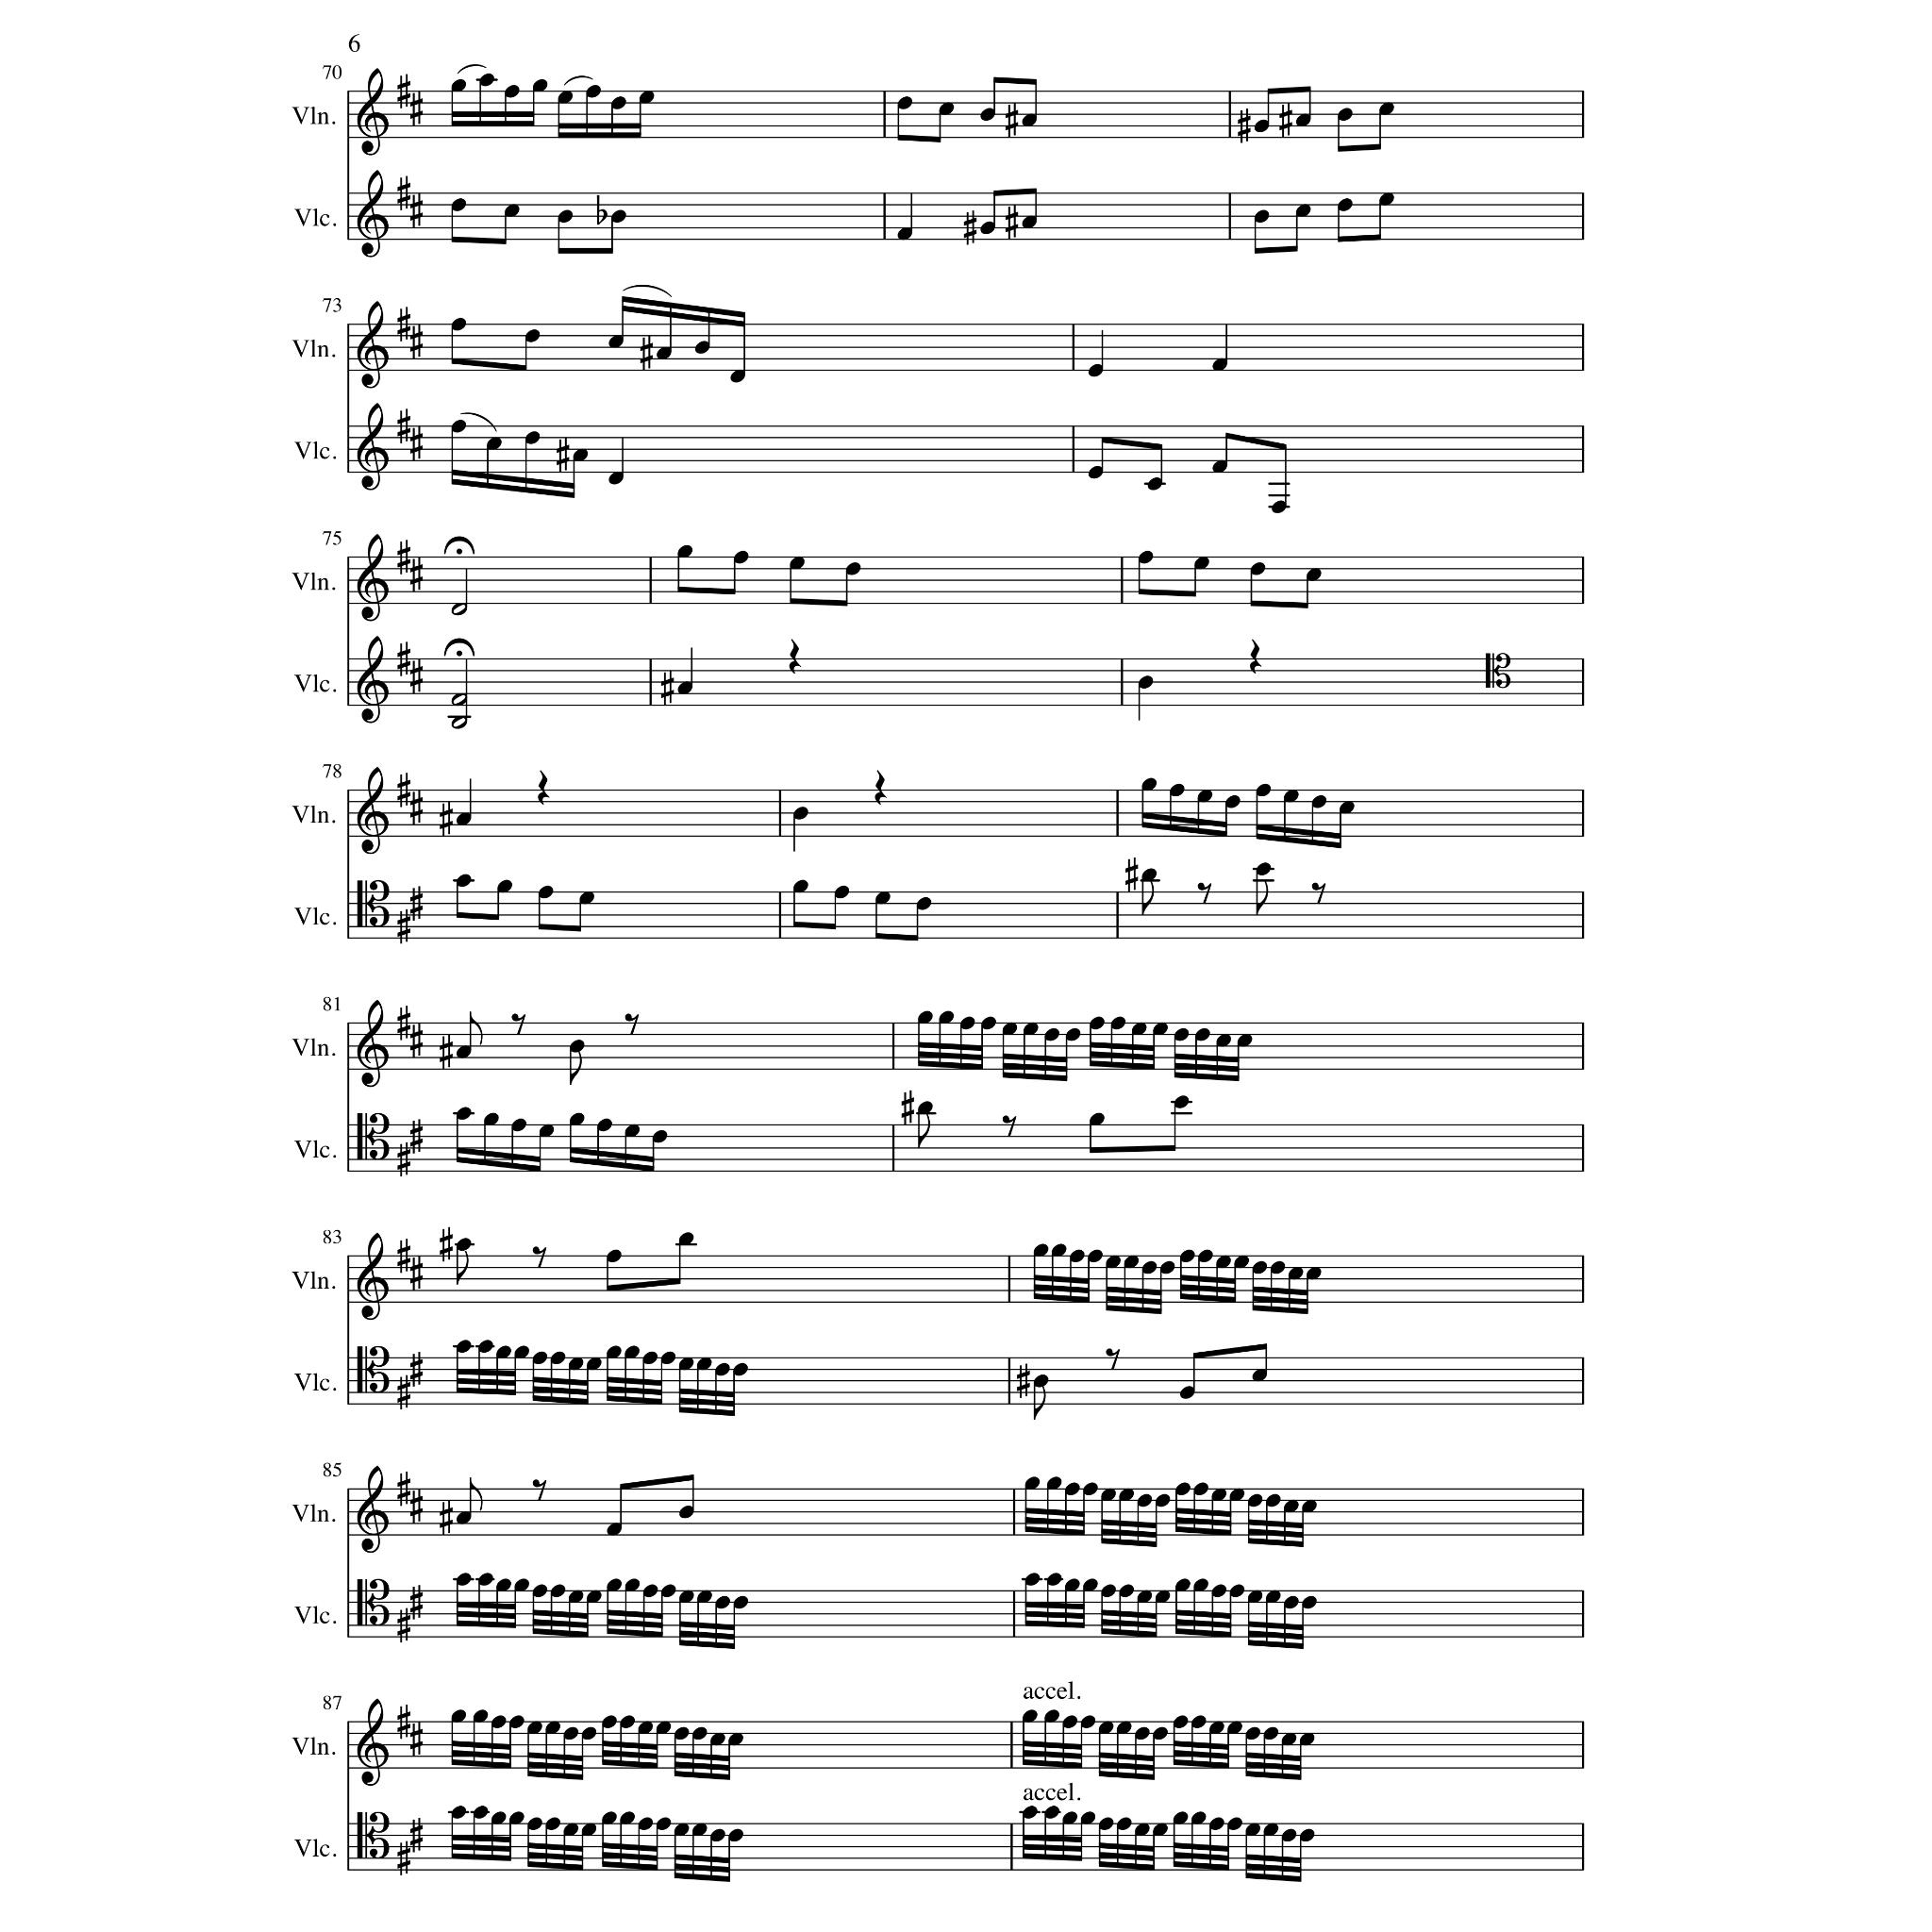flag8thDown: (918, 1113, 931, 1148), (1141, 881, 1154, 915), (1256, 881, 1269, 915), (570, 1051, 582, 1085), (1033, 1385, 1046, 1419), (456, 1251, 469, 1284)
flag8thUp: (471, 1012, 483, 1046), (471, 1477, 483, 1511)
gClef: (357, 67, 389, 157), (357, 635, 389, 725), (357, 170, 389, 258), (357, 301, 389, 389), (357, 403, 389, 492), (357, 534, 389, 623), (357, 766, 389, 855), (357, 1000, 389, 1088), (357, 1231, 389, 1320), (357, 1465, 389, 1553), (357, 1698, 389, 1787)
noteheadBlack: (531, 80, 548, 94), (1270, 501, 1288, 515), (844, 563, 862, 577), (915, 897, 932, 911), (531, 1352, 548, 1366), (1228, 1583, 1246, 1598), (1228, 1488, 1246, 1502), (531, 1583, 548, 1598), (672, 1727, 690, 1741), (672, 1822, 690, 1836), (938, 103, 954, 117), (980, 108, 996, 122), (980, 221, 996, 235), (1021, 216, 1037, 230), (1338, 108, 1353, 122), (1338, 198, 1353, 212), (1378, 103, 1394, 117), (557, 90, 573, 104), (451, 80, 467, 94), (451, 198, 467, 212), (639, 90, 655, 104), (1088, 364, 1104, 379), (1088, 465, 1104, 479), (1212, 460, 1228, 474), (451, 419, 467, 433), (524, 329, 540, 343), (655, 347, 671, 361), (609, 336, 625, 350), (1138, 550, 1154, 564), (1249, 563, 1265, 577), (678, 545, 694, 559), (678, 681, 694, 695), (732, 550, 748, 564), (1169, 784, 1185, 798), (1196, 789, 1212, 803), (1224, 794, 1240, 809), (1141, 869, 1157, 883), (1283, 789, 1299, 803), (1254, 784, 1270, 798), (1254, 862, 1270, 876), (1311, 794, 1327, 809), (497, 879, 513, 893), (455, 812, 471, 826), (455, 874, 471, 888), (793, 879, 809, 893), (1044, 1028, 1060, 1042), (1065, 1028, 1081, 1042), (1090, 1017, 1106, 1031), (1090, 1113, 1106, 1127), (1109, 1017, 1125, 1031), (961, 1017, 977, 1031), (980, 1017, 996, 1031), (1237, 1033, 1253, 1047), (1215, 1033, 1231, 1047), (1173, 1028, 1189, 1042), (1173, 1095, 1189, 1109), (1194, 1028, 1210, 1042), (511, 1118, 527, 1132), (483, 1113, 499, 1127), (568, 1113, 584, 1127), (455, 1046, 471, 1060), (455, 1108, 471, 1122), (918, 1100, 934, 1115), (1178, 1385, 1194, 1399), (1178, 1249, 1194, 1263), (1033, 1244, 1049, 1258), (1033, 1375, 1049, 1389), (1069, 1249, 1085, 1263), (1051, 1244, 1067, 1258), (1306, 1267, 1322, 1281), (1288, 1267, 1304, 1281), (1198, 1249, 1214, 1263), (513, 1345, 529, 1359), (495, 1345, 511, 1359), (586, 1357, 602, 1371), (568, 1357, 584, 1371), (550, 1352, 566, 1366), (478, 1339, 494, 1353), (455, 1339, 471, 1353), (678, 1231, 694, 1246), (678, 1357, 694, 1371), (660, 1352, 676, 1366), (732, 1362, 748, 1376), (715, 1362, 731, 1376), (695, 1357, 711, 1371), (625, 1345, 640, 1359), (607, 1345, 623, 1359), (607, 1249, 623, 1263), (642, 1352, 658, 1366), (1154, 1591, 1169, 1605), (1136, 1591, 1152, 1605), (1192, 1578, 1208, 1592), (1175, 1578, 1191, 1592), (1083, 1578, 1099, 1592), (1063, 1578, 1079, 1592), (1118, 1583, 1134, 1598), (1118, 1488, 1134, 1502), (1100, 1583, 1116, 1598), (1100, 1488, 1116, 1502), (1302, 1596, 1318, 1610), (1302, 1500, 1318, 1514), (1283, 1596, 1299, 1610), (1283, 1500, 1299, 1514), (1210, 1583, 1226, 1598), (1210, 1488, 1226, 1502), (1265, 1591, 1281, 1605), (1247, 1591, 1263, 1605), (568, 1591, 584, 1605), (550, 1583, 566, 1598), (625, 1578, 640, 1592), (513, 1578, 529, 1592), (607, 1578, 623, 1592), (586, 1591, 602, 1605), (455, 1511, 471, 1525), (495, 1578, 511, 1592), (1024, 1476, 1040, 1490), (732, 1596, 748, 1610), (715, 1596, 731, 1610), (1046, 1476, 1062, 1490), (679, 1591, 695, 1605), (660, 1583, 676, 1598), (642, 1583, 658, 1598), (697, 1591, 713, 1605), (1116, 1817, 1132, 1831), (1134, 1727, 1150, 1741), (1097, 1817, 1113, 1831), (1173, 1714, 1189, 1729), (1134, 1822, 1150, 1836), (1152, 1822, 1168, 1836), (1152, 1727, 1168, 1741), (1044, 1709, 1060, 1723), (1079, 1714, 1095, 1729), (1062, 1714, 1077, 1729), (1299, 1828, 1315, 1842), (1299, 1732, 1315, 1746), (1281, 1828, 1297, 1842), (1281, 1732, 1297, 1746), (1208, 1817, 1224, 1831), (1191, 1714, 1207, 1729), (1263, 1822, 1279, 1836), (1263, 1727, 1279, 1741), (1246, 1822, 1261, 1836), (1246, 1727, 1261, 1741), (1226, 1817, 1242, 1831), (545, 1817, 561, 1831), (527, 1817, 543, 1831), (580, 1822, 596, 1836), (580, 1727, 596, 1741), (508, 1714, 524, 1729), (563, 1822, 579, 1836), (563, 1727, 579, 1741), (451, 1709, 467, 1723), (492, 1714, 508, 1729), (472, 1709, 488, 1723), (692, 1822, 708, 1836), (692, 1727, 708, 1741), (709, 1732, 725, 1746), (1021, 1709, 1037, 1723), (727, 1828, 743, 1842), (727, 1732, 743, 1746), (709, 1828, 725, 1842), (637, 1817, 653, 1831), (619, 1714, 635, 1729), (602, 1714, 617, 1729), (655, 1817, 671, 1831), (502, 205, 520, 218), (502, 85, 520, 97), (598, 1118, 612, 1132), (1088, 1249, 1102, 1263), (1253, 211, 1269, 223), (1253, 120, 1269, 133), (1021, 115, 1037, 127), (1295, 115, 1311, 127), (1295, 205, 1311, 218), (1378, 193, 1394, 205), (479, 74, 495, 87), (557, 211, 573, 223), (897, 97, 913, 110), (897, 228, 913, 241), (586, 85, 602, 97), (610, 97, 626, 110), (610, 211, 626, 223), (1146, 478, 1162, 490), (694, 341, 709, 354), (729, 370, 745, 382), (1212, 359, 1228, 372), (451, 318, 467, 331), (487, 437, 502, 449), (524, 432, 540, 444), (609, 472, 625, 485), (571, 449, 587, 462), (1194, 557, 1210, 570), (1138, 676, 1154, 688), (1306, 568, 1322, 580), (789, 557, 805, 570), (1141, 778, 1157, 791), (1338, 801, 1353, 814), (538, 886, 554, 899), (579, 892, 594, 904), (833, 886, 849, 899), (876, 892, 892, 904), (793, 807, 809, 819), (938, 1012, 954, 1024), (1023, 1023, 1039, 1035), (1001, 1023, 1017, 1035), (1131, 1023, 1146, 1035), (1152, 1023, 1168, 1035), (568, 1040, 584, 1053), (538, 1125, 554, 1138), (918, 1012, 934, 1024), (651, 1131, 667, 1143), (625, 1125, 640, 1138), (1123, 1256, 1139, 1269), (1106, 1256, 1122, 1269), (1159, 1261, 1175, 1274), (1141, 1261, 1157, 1274), (1269, 1261, 1284, 1274), (1215, 1256, 1231, 1269), (1251, 1369, 1267, 1382), (1251, 1261, 1267, 1274), (1233, 1256, 1249, 1269), (455, 1238, 471, 1251), (1154, 1495, 1169, 1507), (1136, 1495, 1152, 1507), (1192, 1483, 1208, 1495), (1175, 1483, 1191, 1495), (1083, 1483, 1099, 1495), (1063, 1483, 1079, 1495), (1265, 1495, 1281, 1507), (1247, 1495, 1263, 1507), (607, 1523, 623, 1536), (455, 1573, 471, 1585), (478, 1573, 494, 1585), (1024, 1573, 1040, 1585), (1046, 1573, 1062, 1585), (679, 1506, 695, 1518), (1116, 1721, 1132, 1734), (1097, 1721, 1113, 1734), (1173, 1812, 1189, 1824), (1044, 1806, 1060, 1819), (1079, 1812, 1095, 1824), (1062, 1812, 1077, 1824), (1208, 1721, 1224, 1734), (1226, 1721, 1242, 1734), (1191, 1812, 1207, 1824), (545, 1721, 561, 1734), (527, 1721, 543, 1734), (508, 1812, 524, 1824), (451, 1806, 467, 1819), (492, 1812, 508, 1824), (472, 1806, 488, 1819), (1021, 1806, 1037, 1819), (637, 1721, 653, 1734), (619, 1812, 635, 1824), (602, 1812, 617, 1824), (655, 1721, 671, 1734)
noteheadHalf: (451, 694, 467, 708), (451, 603, 467, 616), (451, 717, 467, 729)
rest8th: (1001, 1115, 1017, 1138), (1104, 1348, 1120, 1371), (1311, 883, 1327, 904), (510, 1014, 525, 1035), (625, 1014, 640, 1035), (533, 1246, 547, 1269), (533, 1479, 547, 1502), (1198, 883, 1212, 904)
restQuarter: (1249, 639, 1261, 674), (789, 639, 801, 674), (538, 770, 550, 805), (876, 770, 886, 805)
